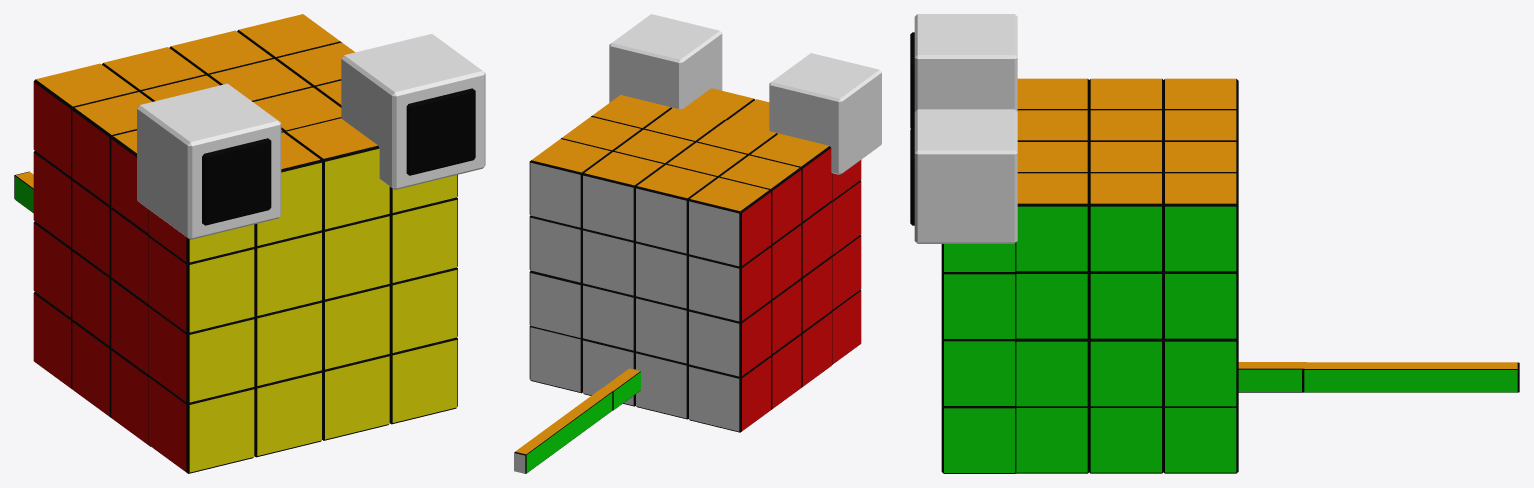
3 renders of one model, left to right at view 1: azimuth 30°, elevation 25°; view 2: azimuth 150°, elevation 25°; view 3: azimuth 270°, elevation 25°, orthographic. The views are drawn at different scales.
Visible parts, largest first — view 1: polySurface96, polySurface99, polySurface79, polySurface34, polySurface35, polySurface24, polySurface58, polySurface98, polySurface97, polySurface71, pCube1547, pCube1551 (+28 smaller); view 2: polySurface96, polySurface99, polySurface58, polySurface82, polySurface66, polySurface62, polySurface57, polySurface55, polySurface56, polySurface53, polySurface54, polySurface59 (+30 smaller); view 3: polySurface99, polySurface96, polySurface55, pCube1599, pCube1540, polySurface59, polySurface63, polySurface70, pCube1605, pCube1608, pCube1548, pCube1552 (+19 smaller).
Part boxes in pixels (left/top/right/bottom): polySurface96: left=137, top=83, right=281, bottom=239; polySurface99: left=341, top=34, right=485, bottom=189; polySurface79: left=149, top=376, right=254, bottom=473; polySurface34: left=149, top=236, right=254, bottom=333; polySurface35: left=149, top=306, right=254, bottom=403; polySurface24: left=285, top=118, right=390, bottom=230; polySurface58: left=33, top=63, right=138, bottom=177; polySurface98: left=406, top=88, right=475, bottom=175; polySurface97: left=202, top=138, right=271, bottom=225; polySurface71: left=322, top=354, right=390, bottom=440; pCube1547: left=322, top=284, right=390, bottom=370; pCube1551: left=322, top=214, right=390, bottom=300; polySurface96: left=769, top=53, right=881, bottom=174; polySurface99: left=609, top=14, right=722, bottom=109; polySurface58: left=688, top=177, right=770, bottom=266; polySurface82: left=688, top=356, right=770, bottom=432; polySurface66: left=688, top=301, right=770, bottom=377; polySurface62: left=688, top=246, right=770, bottom=322; polySurface57: left=635, top=164, right=717, bottom=254; polySurface55: left=529, top=139, right=611, bottom=228; polySurface56: left=582, top=152, right=664, bottom=241; polySurface53: left=719, top=155, right=801, bottom=244; polySurface54: left=750, top=133, right=831, bottom=222; polySurface59: left=529, top=216, right=583, bottom=283; polySurface99: left=914, top=109, right=1017, bottom=243; polySurface96: left=914, top=14, right=1017, bottom=111; polySurface55: left=1163, top=173, right=1238, bottom=271; pCube1599: left=1089, top=173, right=1163, bottom=271; pCube1540: left=1016, top=173, right=1089, bottom=271; polySurface59: left=1163, top=270, right=1238, bottom=339; polySurface63: left=1163, top=338, right=1238, bottom=406; polySurface70: left=1163, top=405, right=1238, bottom=473; pCube1605: left=1089, top=271, right=1163, bottom=339; pCube1608: left=1089, top=338, right=1163, bottom=406; pCube1548: left=941, top=338, right=1015, bottom=406; pCube1552: left=941, top=271, right=1015, bottom=339.
Bounding box in the file's own units: 8.66 × 9.6 × 16.06.
